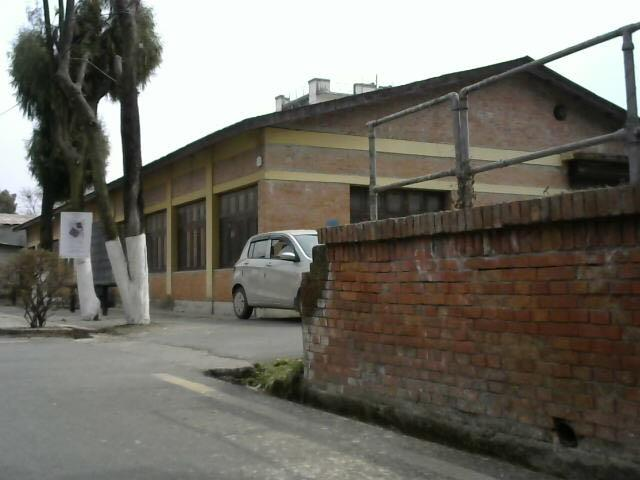Building: (120, 92, 629, 221)
Car: (228, 227, 323, 321)
Road: (0, 344, 640, 480)
Tree: (11, 2, 227, 334)
